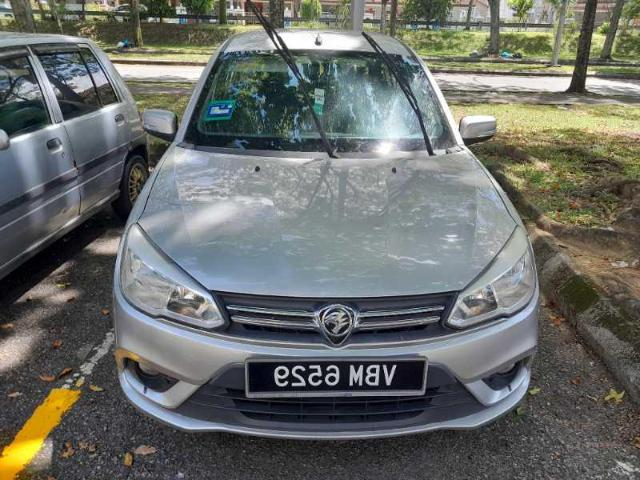License_Plate: (245, 357, 429, 401)
car: (113, 26, 541, 442)
